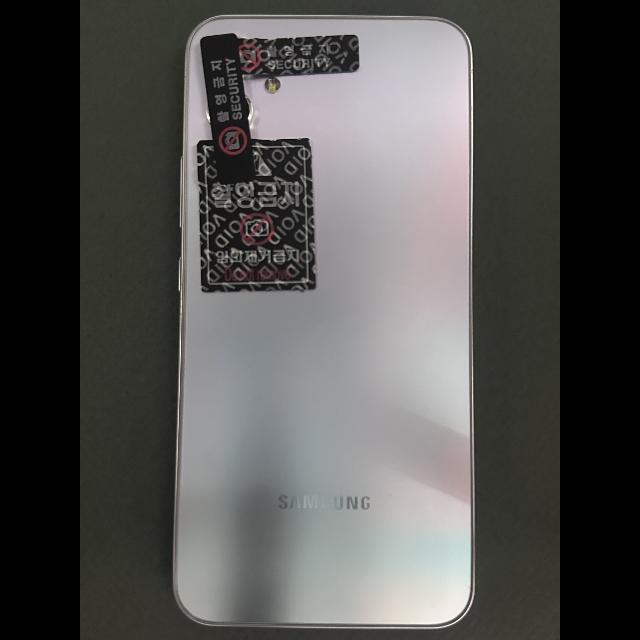lens: (245, 94, 253, 122)
phone: (170, 12, 476, 631)
sticker: (196, 138, 316, 293), (200, 33, 256, 185), (238, 34, 360, 76)
